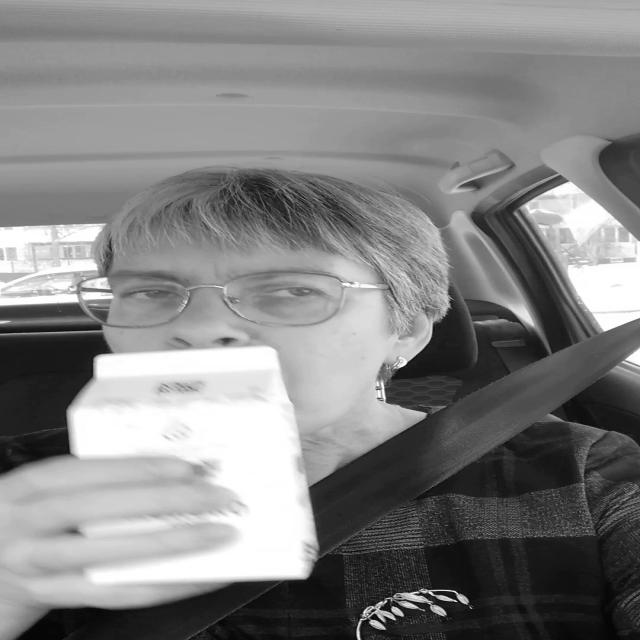Drinking: (52, 329, 334, 597)
Seatbelt: (319, 320, 639, 546)
